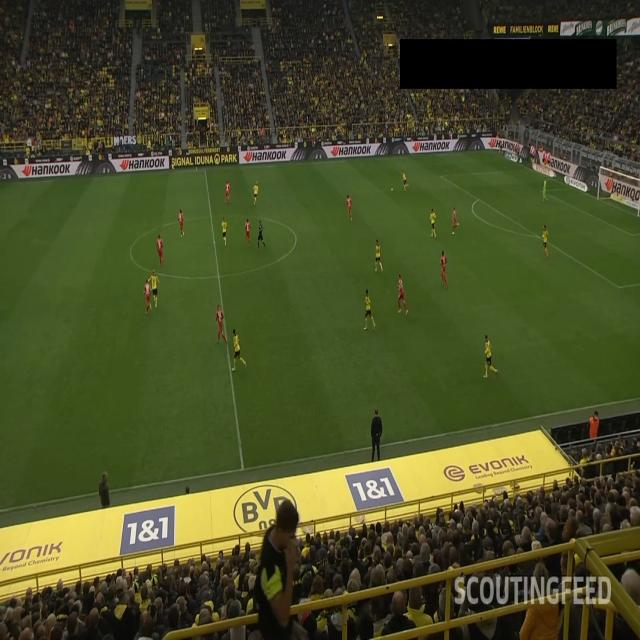ball: (391, 187, 394, 192)
